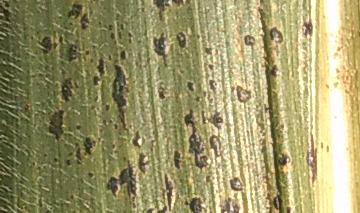tarspot: (181, 108, 212, 173), (109, 62, 130, 133), (102, 163, 139, 196), (147, 30, 173, 68), (305, 131, 319, 189), (44, 107, 66, 141), (160, 170, 176, 213), (199, 107, 225, 130), (57, 75, 74, 103), (152, 1, 172, 24), (217, 194, 241, 213), (207, 132, 224, 158), (234, 82, 253, 105), (183, 195, 207, 213), (266, 25, 284, 46), (135, 150, 150, 175), (82, 133, 97, 157), (226, 175, 246, 193), (66, 38, 79, 65), (129, 128, 145, 149), (153, 82, 169, 101), (299, 20, 315, 39), (171, 148, 184, 171), (66, 2, 83, 19), (274, 151, 292, 167), (39, 34, 52, 56), (271, 193, 285, 213), (176, 29, 188, 52), (266, 61, 281, 78), (95, 56, 107, 77), (78, 10, 90, 30), (74, 140, 83, 166), (242, 33, 257, 47), (206, 76, 218, 92), (184, 79, 197, 91), (91, 74, 102, 87), (203, 45, 214, 58), (118, 49, 129, 61), (155, 203, 168, 213), (173, 1, 193, 7), (142, 205, 156, 213), (205, 61, 215, 72), (202, 174, 213, 183), (126, 32, 134, 44), (228, 84, 236, 96), (74, 123, 84, 132), (284, 203, 293, 213), (23, 102, 31, 113), (64, 158, 73, 167), (86, 170, 95, 179), (262, 103, 270, 113), (73, 78, 80, 89), (324, 143, 331, 154), (129, 194, 137, 203), (52, 40, 59, 50), (213, 46, 220, 56), (57, 33, 63, 44), (175, 191, 181, 202), (104, 103, 111, 112), (121, 155, 128, 164), (194, 95, 201, 104), (323, 82, 330, 91), (201, 89, 207, 99), (40, 150, 47, 158), (51, 156, 59, 163), (88, 56, 95, 64), (106, 53, 113, 61), (130, 202, 137, 210), (178, 67, 185, 75), (117, 29, 122, 39), (320, 140, 325, 150), (66, 150, 73, 157), (84, 47, 91, 54), (107, 23, 114, 30), (108, 33, 115, 40), (195, 32, 202, 39), (28, 161, 36, 167), (93, 94, 99, 102), (79, 176, 84, 185), (62, 24, 68, 31), (68, 194, 75, 200), (89, 104, 95, 111), (82, 54, 87, 62), (113, 121, 117, 131), (68, 21, 74, 27), (97, 19, 103, 25), (119, 22, 123, 31), (101, 137, 106, 144), (111, 142, 116, 149), (98, 127, 103, 133), (108, 118, 113, 124), (36, 166, 41, 171), (41, 164, 46, 169), (96, 107, 101, 112), (102, 118, 106, 124), (140, 8, 146, 12), (100, 147, 103, 153)
